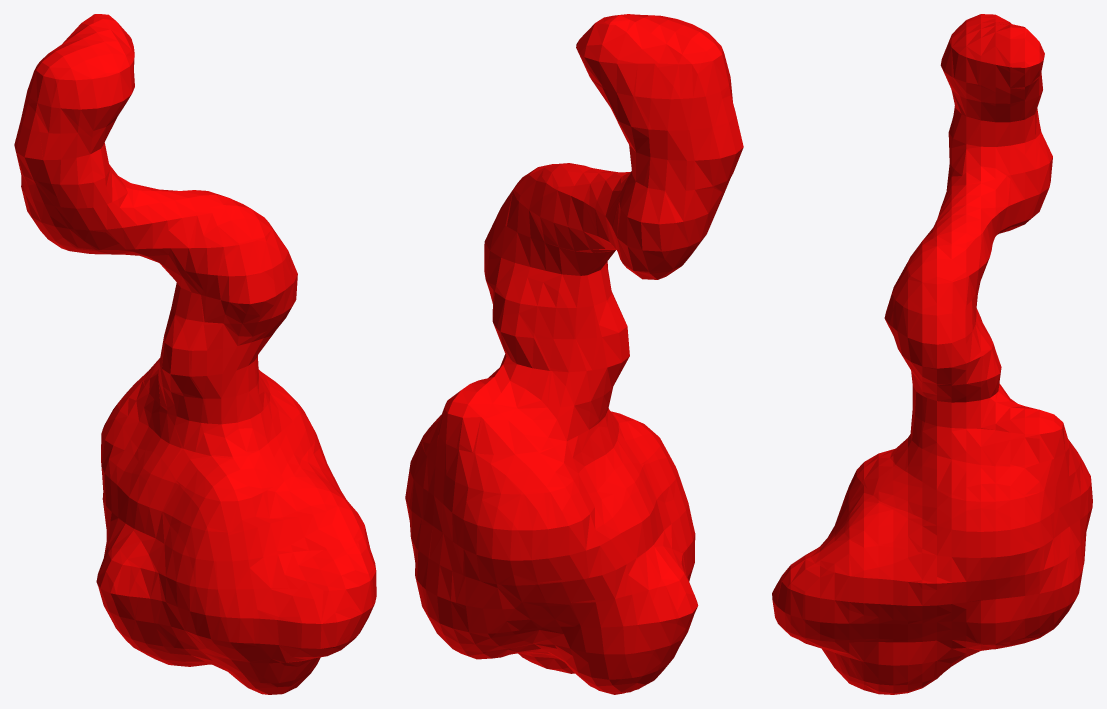
File: yedF_coarse.dae
3 views of the same model, side by side, from view 1: azimuth 30°, elevation 25°; view 2: azimuth 150°, elevation 25°; view 3: azimuth 270°, elevation 25° (orthographic). The views are drawn at different scales.
Visible parts, largest first — view 1: yedF; view 2: yedF; view 3: yedF.
Part boxes in pixels (x1=…): yedF: x1=14, y1=14, x2=376, y2=694; yedF: x1=405, y1=14, x2=743, y2=694; yedF: x1=772, y1=14, x2=1092, y2=694.
Bounding box in the file's own units: 36.78 × 78.59 × 37.06.
